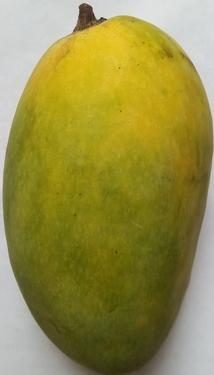PartiallyRipe: (1, 1, 214, 375)
